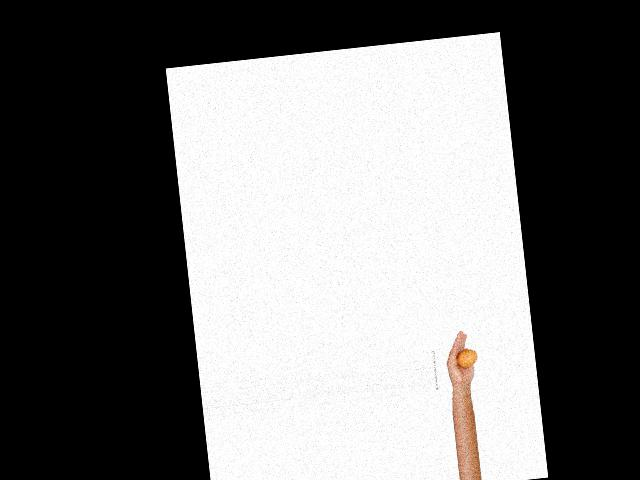egg: (455, 348, 478, 368)
